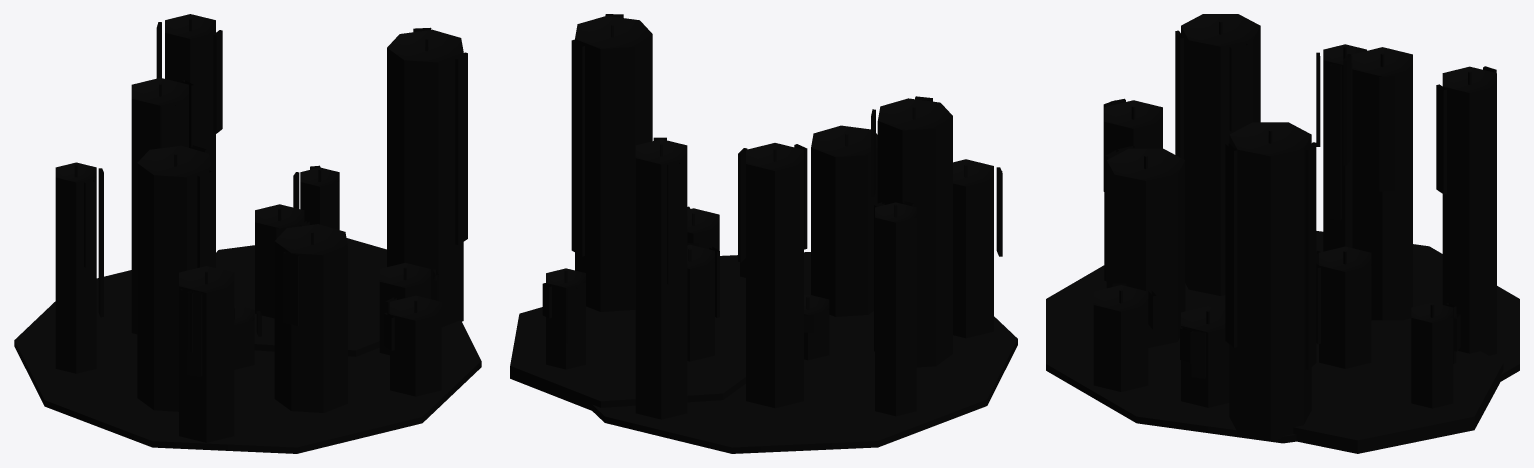
The model's file is candle_cluster.fbx.
The picture shows the model from 3 angles, left to right: view 1: azimuth 30°, elevation 25°; view 2: azimuth 150°, elevation 25°; view 3: azimuth 270°, elevation 25°; orthographic projection. The views are drawn at different scales.
Parts seen in each view (by area): view 1: candle_cluster; view 2: candle_cluster; view 3: candle_cluster.
Boxes of the visible parts, bbox=[...] form: candle_cluster: bbox=[14, 14, 481, 453]; candle_cluster: bbox=[510, 14, 1017, 453]; candle_cluster: bbox=[1046, 14, 1519, 453].
Size of the model in its own units: 0.42 by 0.2632 by 0.3804.
